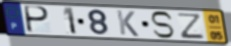1: (63, 6, 78, 36)
8: (87, 8, 111, 37)
K: (115, 10, 140, 38)
P: (24, 5, 51, 34)
S: (150, 10, 176, 40)
Z: (177, 12, 205, 40)
